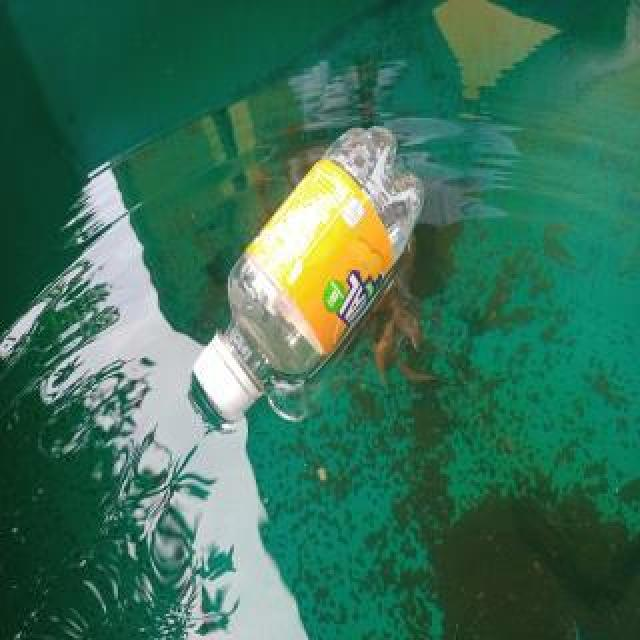bottle: (185, 104, 429, 436)
